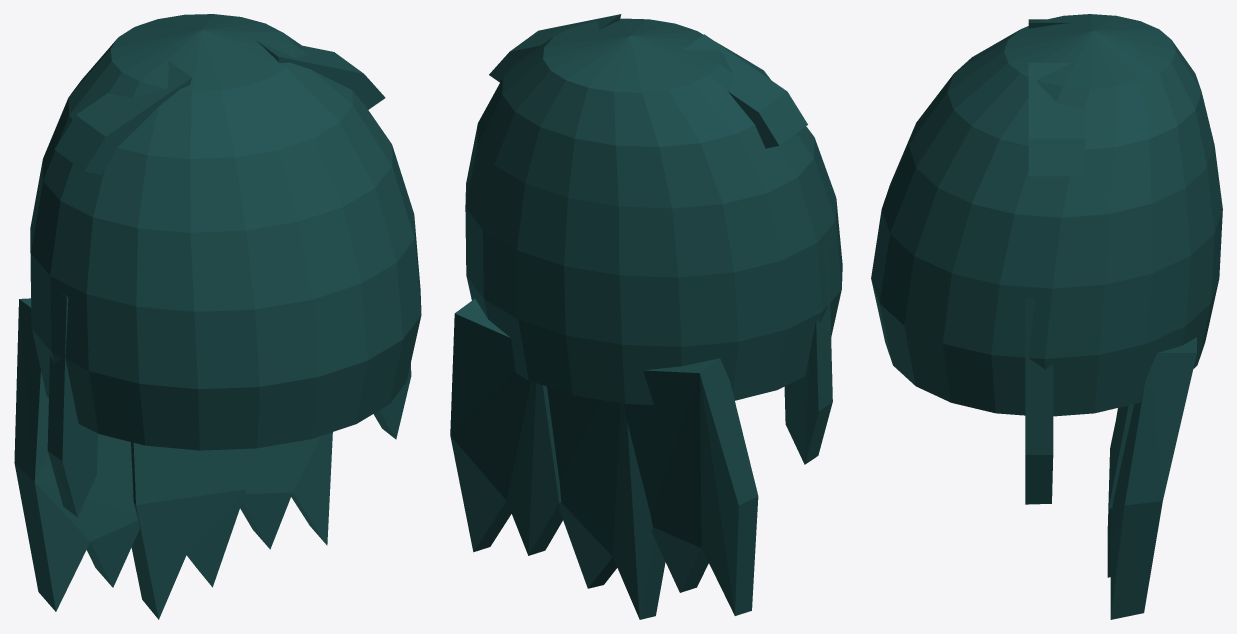
The model's file is hair_boy_mullet_01.glb.
The picture shows the model from 3 angles, left to right: view 1: azimuth 30°, elevation 25°; view 2: azimuth 150°, elevation 25°; view 3: azimuth 270°, elevation 25°; orthographic projection. The views are drawn at different scales.
Visible parts, largest first — view 1: Mullet_Cap, Mullet_Rear_Panel_L, Mullet_Rear_Panel_C, Mullet_Rear_Panel_R, Mullet_Side_Lock_L, Mullet_Top_Layer_L, Mullet_Top_Layer_R, Mullet_Side_Lock_R; view 2: Mullet_Cap, Mullet_Rear_Panel_L, Mullet_Rear_Panel_R, Mullet_Rear_Panel_C, Mullet_Side_Lock_L, Mullet_Top_Layer_L, Mullet_Top_Layer_R; view 3: Mullet_Cap, Mullet_Rear_Panel_R, Mullet_Top_Layer_R, Mullet_Side_Lock_R, Mullet_Rear_Panel_C.
Boxes of the visible parts, x1=… form: Mullet_Cap: x1=30, y1=14, x2=421, y2=450; Mullet_Rear_Panel_L: x1=14, y1=298, x2=139, y2=611; Mullet_Rear_Panel_C: x1=131, y1=442, x2=246, y2=619; Mullet_Rear_Panel_R: x1=240, y1=432, x2=332, y2=549; Mullet_Side_Lock_L: x1=47, y1=293, x2=97, y2=517; Mullet_Top_Layer_L: x1=54, y1=61, x2=191, y2=174; Mullet_Top_Layer_R: x1=256, y1=40, x2=385, y2=109; Mullet_Side_Lock_R: x1=373, y1=363, x2=411, y2=439; Mullet_Cap: x1=465, y1=18, x2=842, y2=405; Mullet_Rear_Panel_L: x1=624, y1=358, x2=758, y2=615; Mullet_Rear_Panel_R: x1=450, y1=299, x2=562, y2=555; Mullet_Rear_Panel_C: x1=547, y1=386, x2=665, y2=619; Mullet_Side_Lock_L: x1=784, y1=243, x2=832, y2=464; Mullet_Top_Layer_L: x1=682, y1=34, x2=807, y2=148; Mullet_Top_Layer_R: x1=489, y1=14, x2=621, y2=82; Mullet_Cap: x1=871, y1=14, x2=1222, y2=416; Mullet_Rear_Panel_R: x1=1110, y1=337, x2=1196, y2=619; Mullet_Top_Layer_R: x1=1028, y1=62, x2=1085, y2=176; Mullet_Side_Lock_R: x1=1025, y1=298, x2=1053, y2=504; Mullet_Rear_Panel_C: x1=1107, y1=404, x2=1133, y2=577.
Size of the model in its own units: 0.324 by 0.5213 by 0.299.
